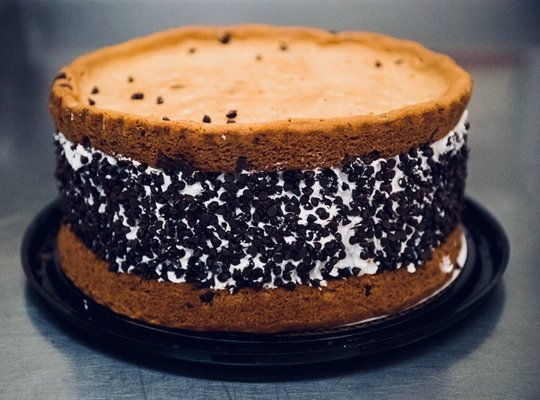sushi: (47, 22, 471, 333)
